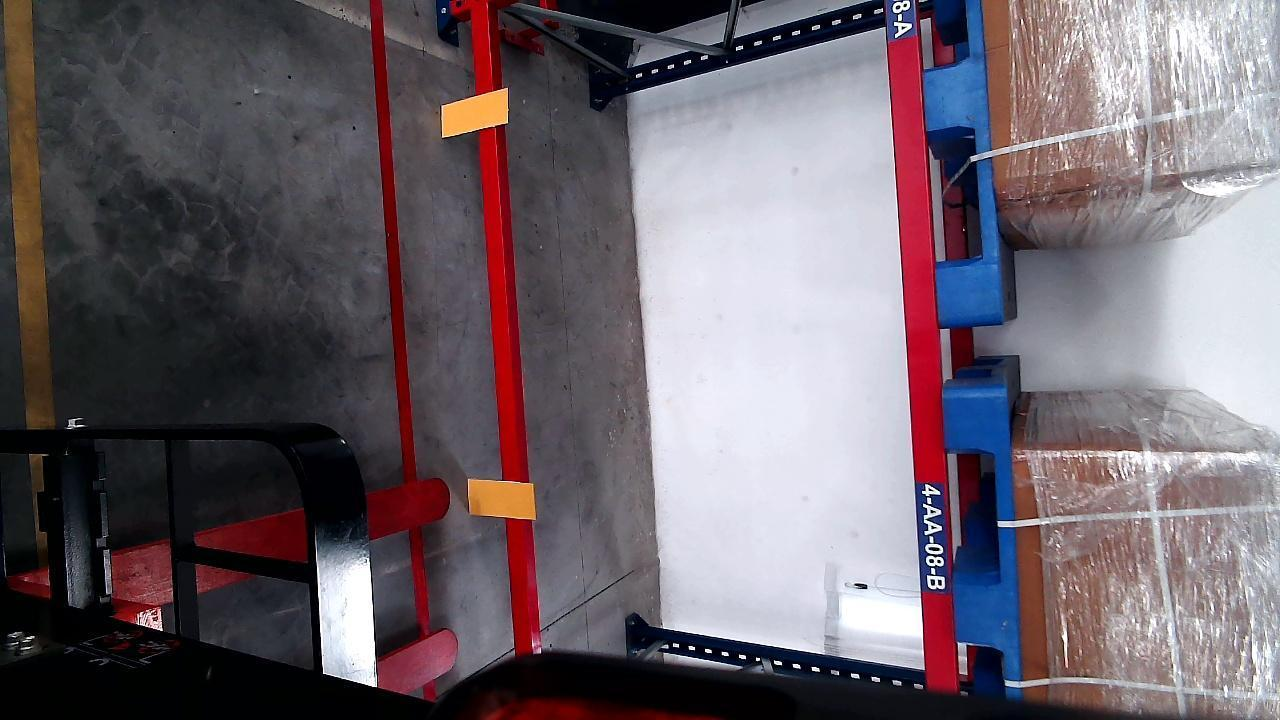h_rack: (885, 0, 955, 689), (473, 2, 535, 653)
orange_strip: (440, 88, 508, 138), (468, 478, 535, 520)
red_line: (368, 0, 437, 699)
small_pallet: (914, 0, 1001, 323), (947, 386, 1020, 693)
yellow_line: (6, 0, 54, 431)
